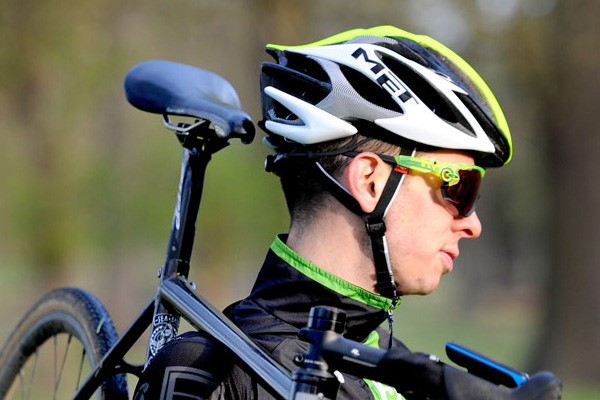helmet: (258, 24, 520, 166)
